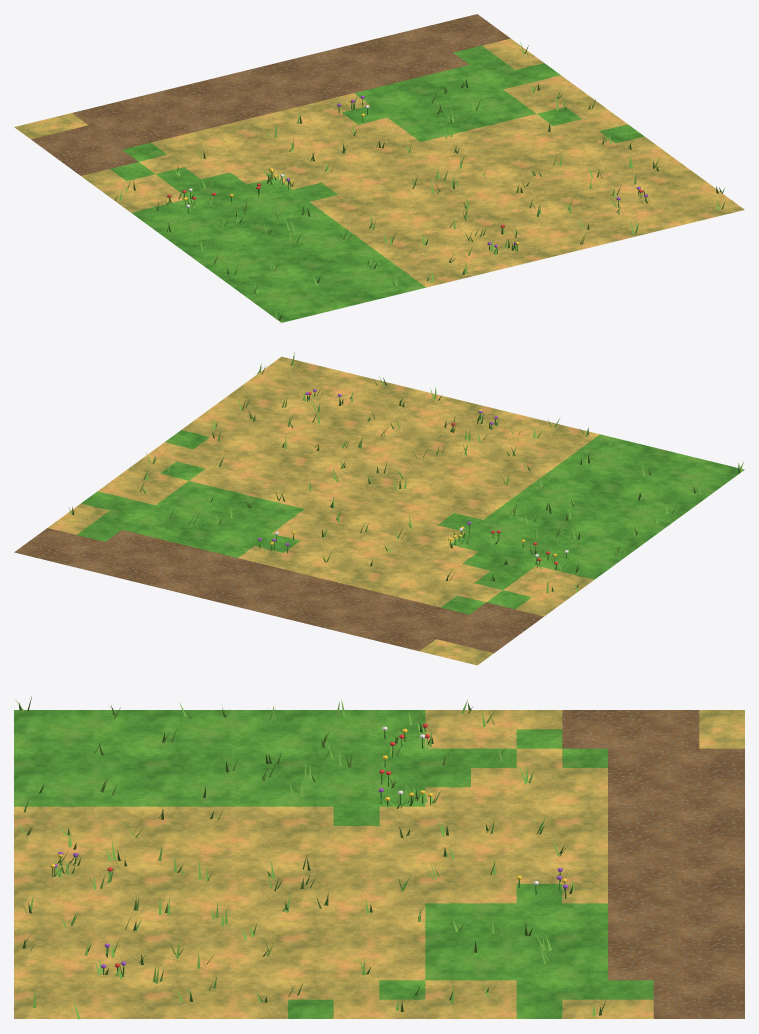
The model's file is chunk_8_11.glb.
3 views of the same model, one above another, from view 1: azimuth 30°, elevation 25°; view 2: azimuth 150°, elevation 25°; view 3: azimuth 270°, elevation 25° (orthographic). The views are drawn at different scales.
Parts seen in each view (by area): view 1: chunk_8_11; view 2: chunk_8_11; view 3: chunk_8_11.
Boxes of the visible parts, left/top/right/bottom form: chunk_8_11: left=14, top=14, right=744, bottom=322; chunk_8_11: left=14, top=352, right=744, bottom=665; chunk_8_11: left=14, top=696, right=744, bottom=1019.
Bounding box in the file's own units: 16.05 × 0.4078 × 16.
Materials: 9 (4 with a texture image).
